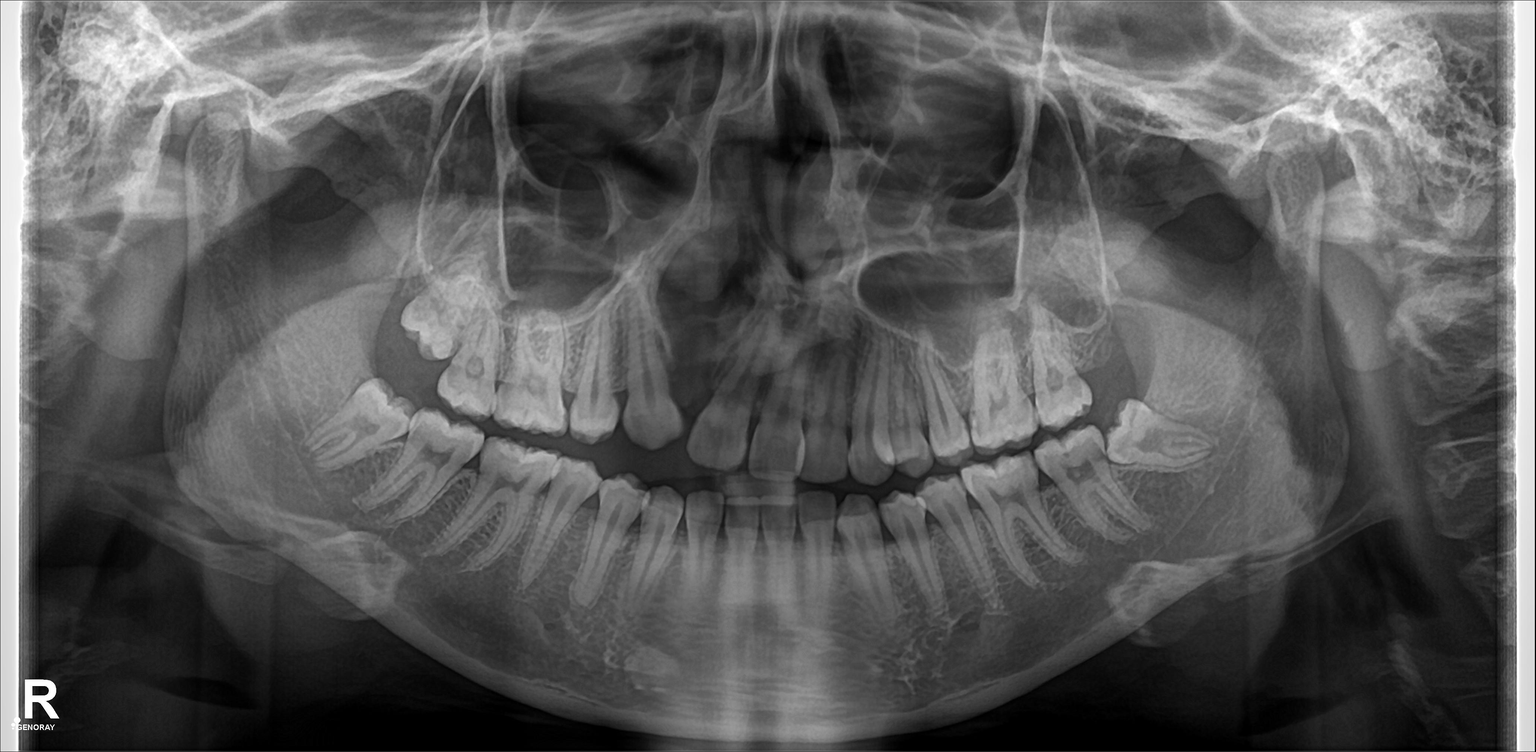Impacted Third Molar: (299, 393, 405, 481), (1110, 406, 1208, 472), (402, 285, 472, 362)
Missing Tooth: (1079, 316, 1129, 399)
